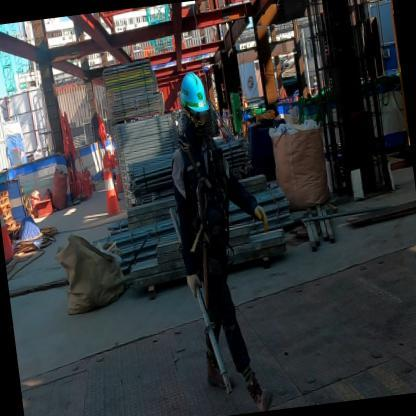Helmet: (165, 65, 213, 120)
safety-shoe: (199, 352, 238, 405), (241, 371, 282, 413)
